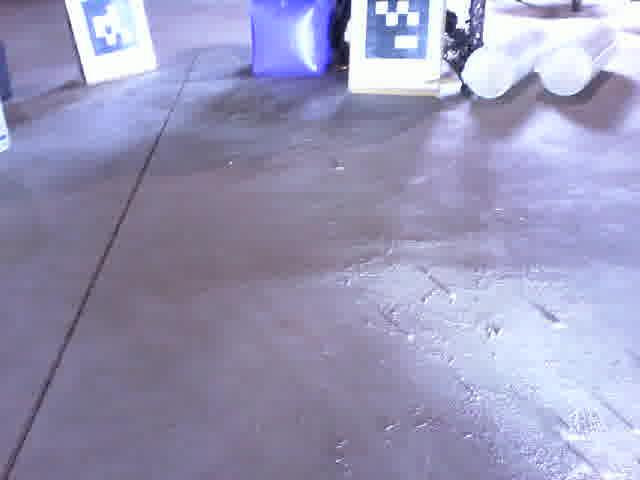coral: (463, 25, 550, 99), (545, 22, 621, 95)
